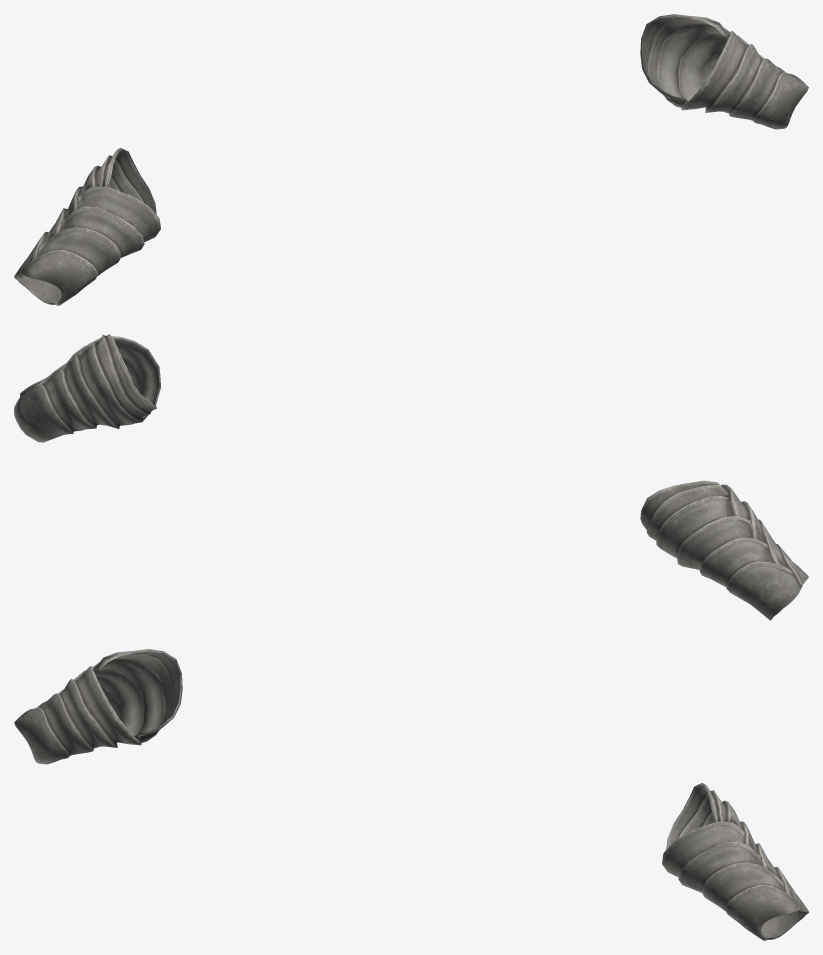
File: rivendell_vambraces_3_silver.fbx
3 views of the same model, one above another, from view 1: azimuth 30°, elevation 25°; view 2: azimuth 150°, elevation 25°; view 3: azimuth 330°, elevation 25° (orthographic).
Visible parts, largest first — view 1: rivendell_vambraces_3_silver; view 2: rivendell_vambraces_3_silver; view 3: rivendell_vambraces_3_silver.
Part boxes in pixels (bbox=[...]): rivendell_vambraces_3_silver: bbox=[14, 14, 808, 305]; rivendell_vambraces_3_silver: bbox=[14, 334, 808, 620]; rivendell_vambraces_3_silver: bbox=[14, 649, 808, 940].
Bounding box in the file's own units: 1.35 × 0.1406 × 0.2036.
Materials: 1 (1 with a texture image).
